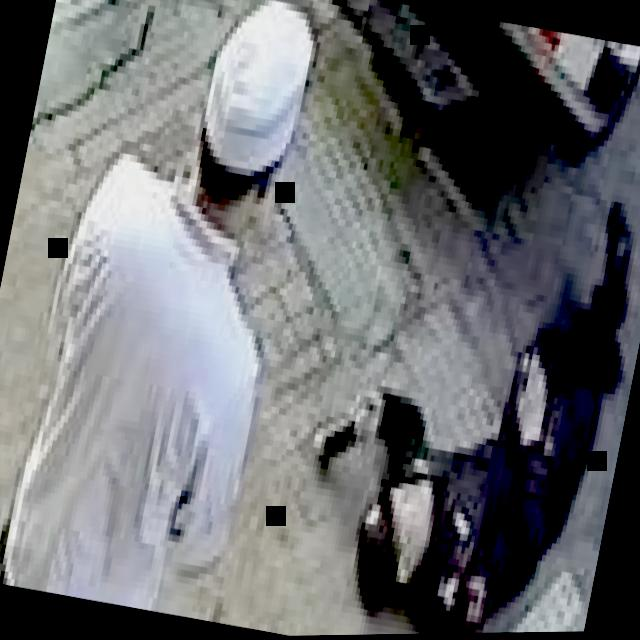Fall-Detected: (274, 161, 640, 637)
